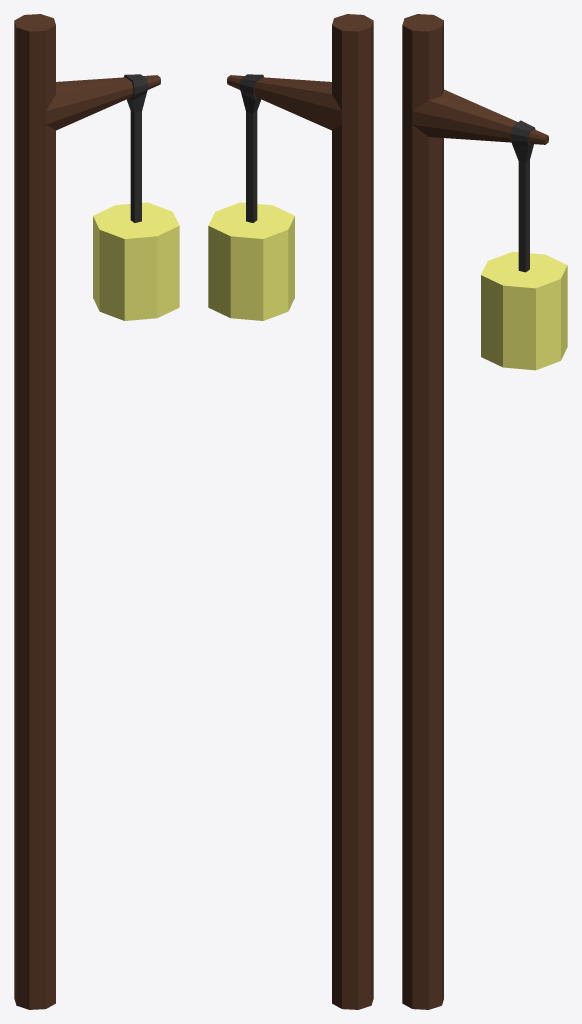
Rendered from light_post.glb.
The picture shows the model from 3 angles, left to right: view 1: azimuth 30°, elevation 25°; view 2: azimuth 150°, elevation 25°; view 3: azimuth 330°, elevation 25°; orthographic projection.
Visible parts, largest first — view 1: Light_Post; view 2: Light_Post; view 3: Light_Post.
Part boxes in pixels (x1,y1,x2,y2): Light_Post: (14,14,179,1009); Light_Post: (208,14,373,1009); Light_Post: (402,14,567,1009).
Bounding box in the file's own units: 1.67 × 10 × 0.7839.
1 material, 1 textured.
